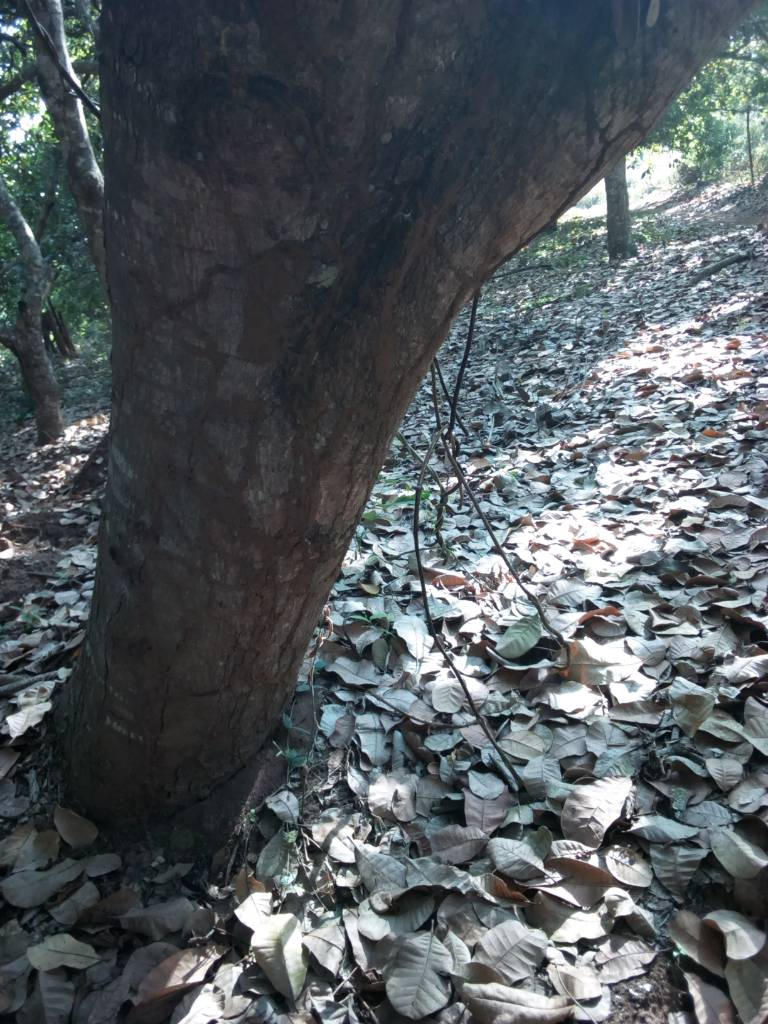Termites: (207, 202, 449, 400), (100, 599, 294, 771), (368, 19, 532, 164), (241, 433, 340, 592)
